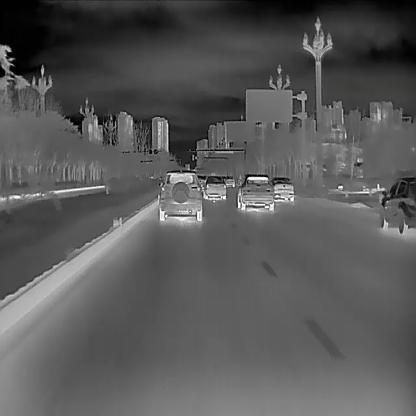car: (157, 170, 202, 219), (380, 177, 416, 233), (237, 173, 274, 211), (202, 174, 226, 199), (270, 176, 294, 200), (223, 174, 234, 186), (196, 173, 206, 186)
